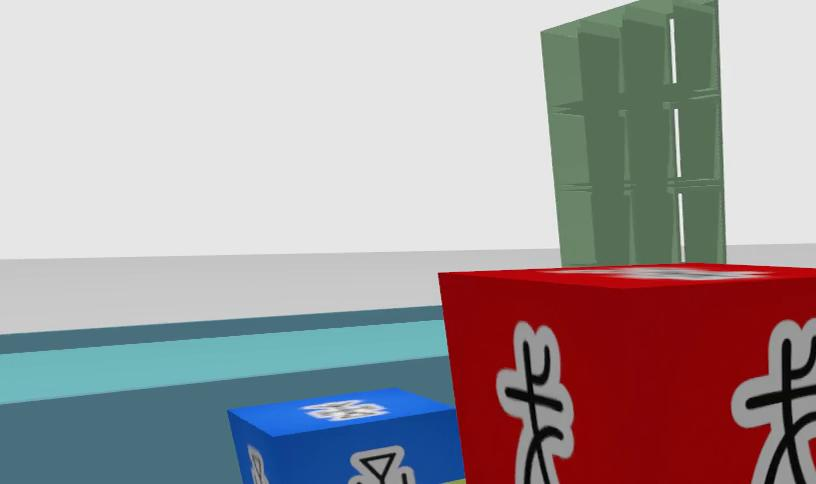KFS_FAKE: (440, 263, 816, 484), (731, 318, 816, 484), (496, 321, 573, 484)
KFS_REAL: (228, 388, 464, 484), (348, 446, 415, 484)
